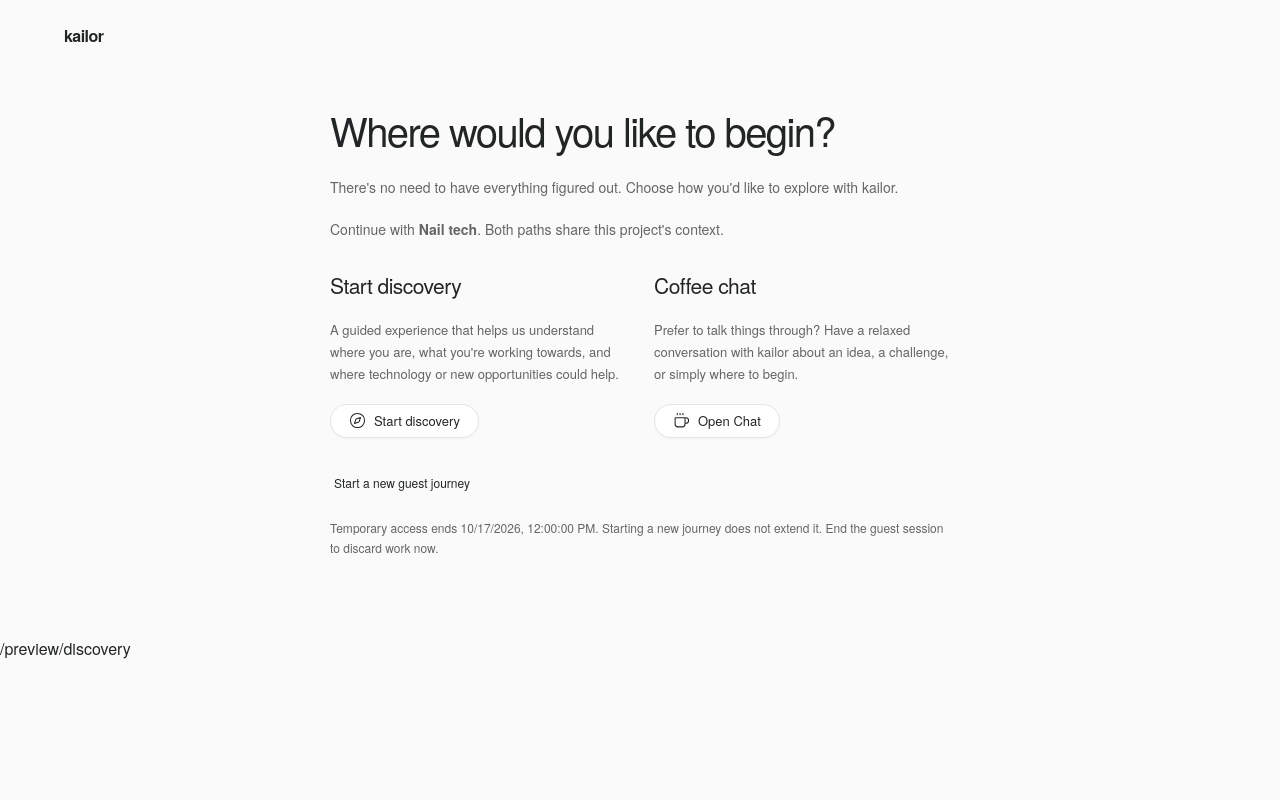
distinguishes current Chat and Discovery; cancelling or Escape does not replace a project
Check: the button "Open Chat" is shown, box [654, 404, 780, 438]
Check: the button "Start discovery" is shown, box [330, 404, 479, 438]
Click the button "Start a new guest journey" at {"x": 402, "y": 483}, box [330, 466, 474, 500]
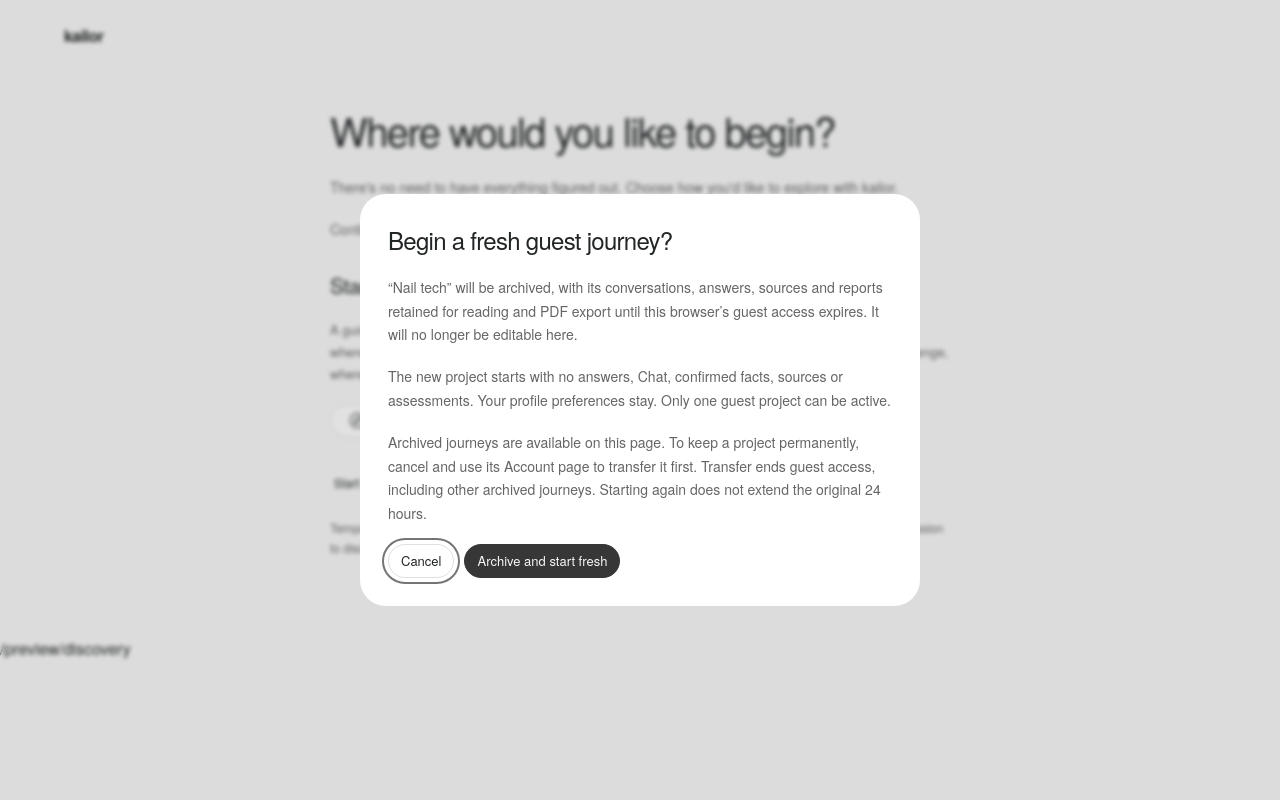
Click the button "Cancel" at {"x": 421, "y": 561}, box [388, 544, 454, 578]
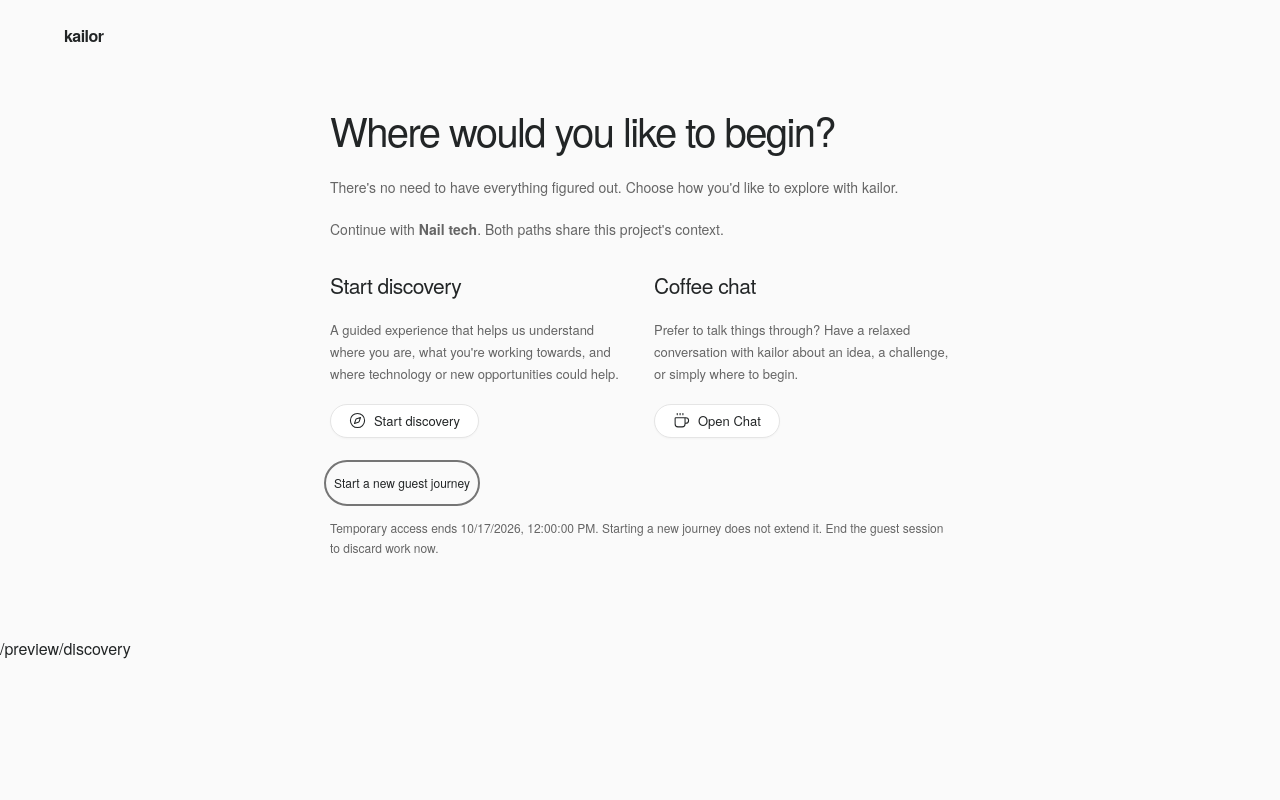
Click the button "Start a new guest journey" at {"x": 402, "y": 483}, box [330, 466, 474, 500]
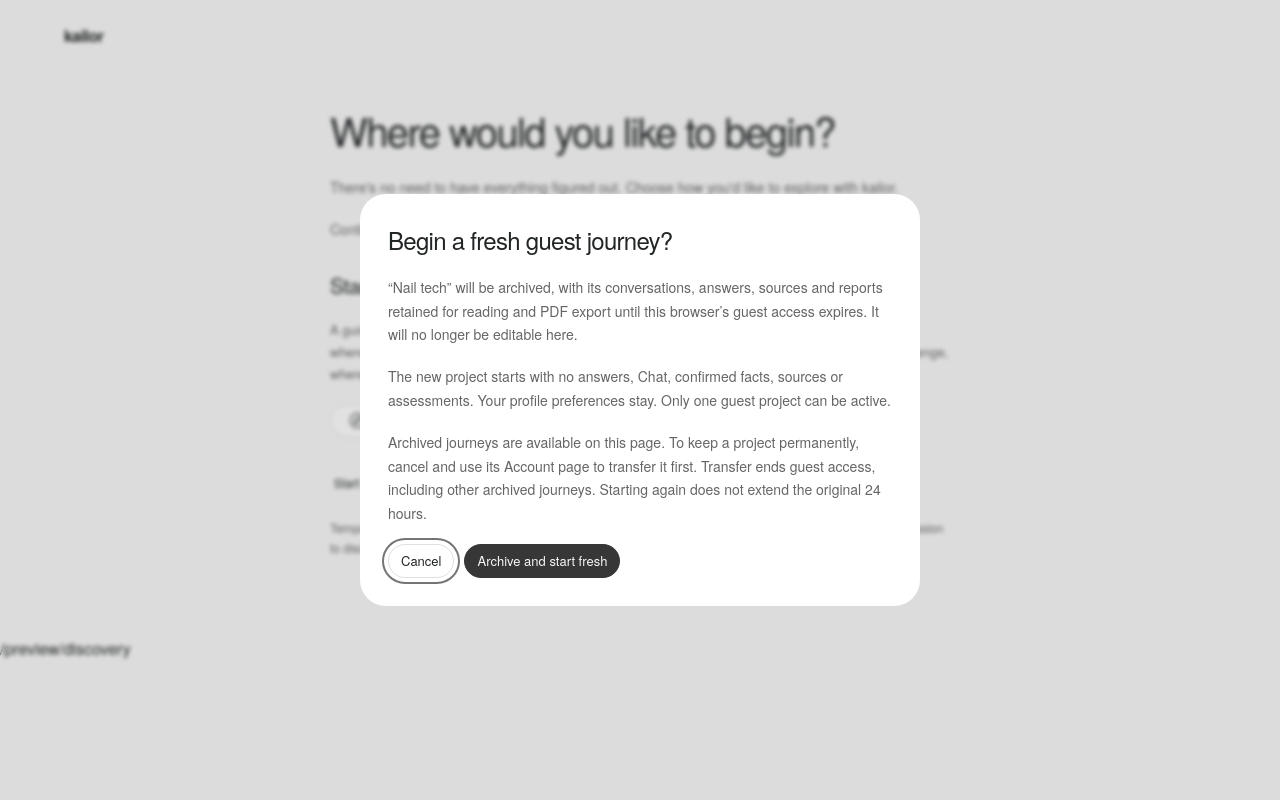
Press Escape in the dialog, box [360, 194, 920, 606]
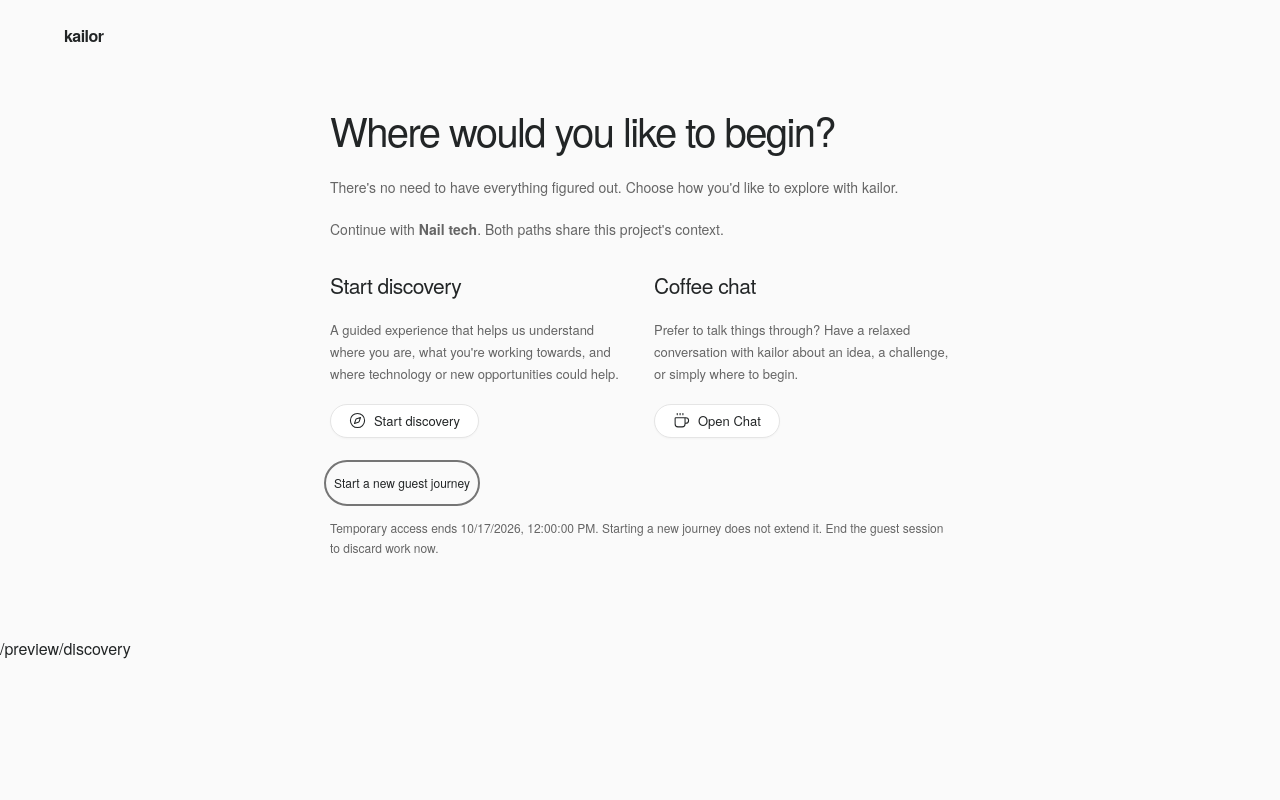
Check: the dialog is gone
